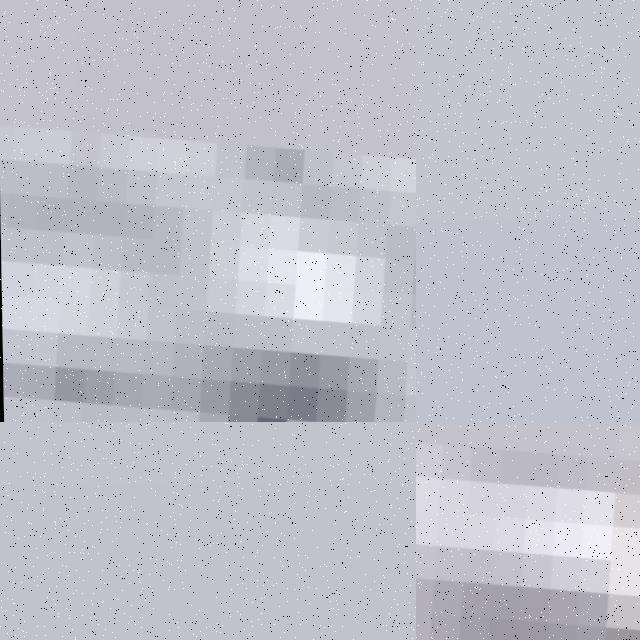drone: (0, 0, 416, 422), (416, 422, 640, 640)
